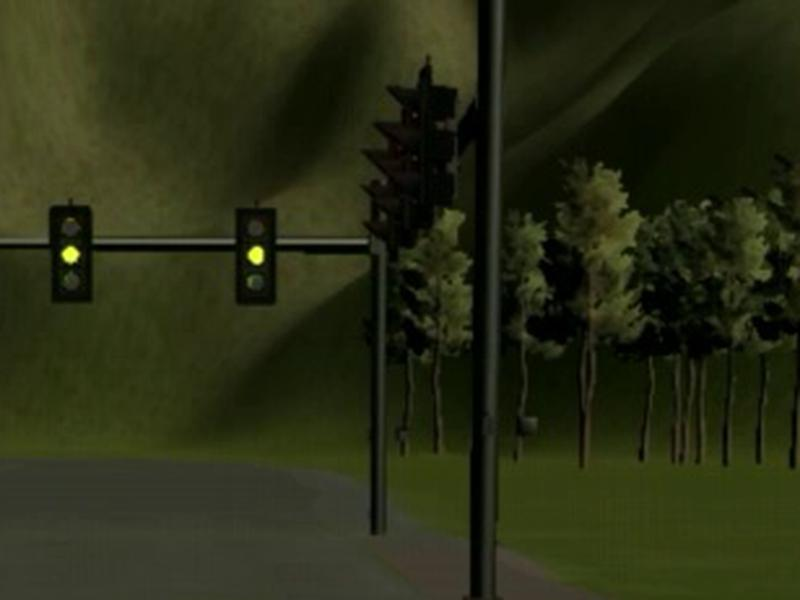Yellow: (50, 204, 92, 303), (236, 207, 276, 305)
